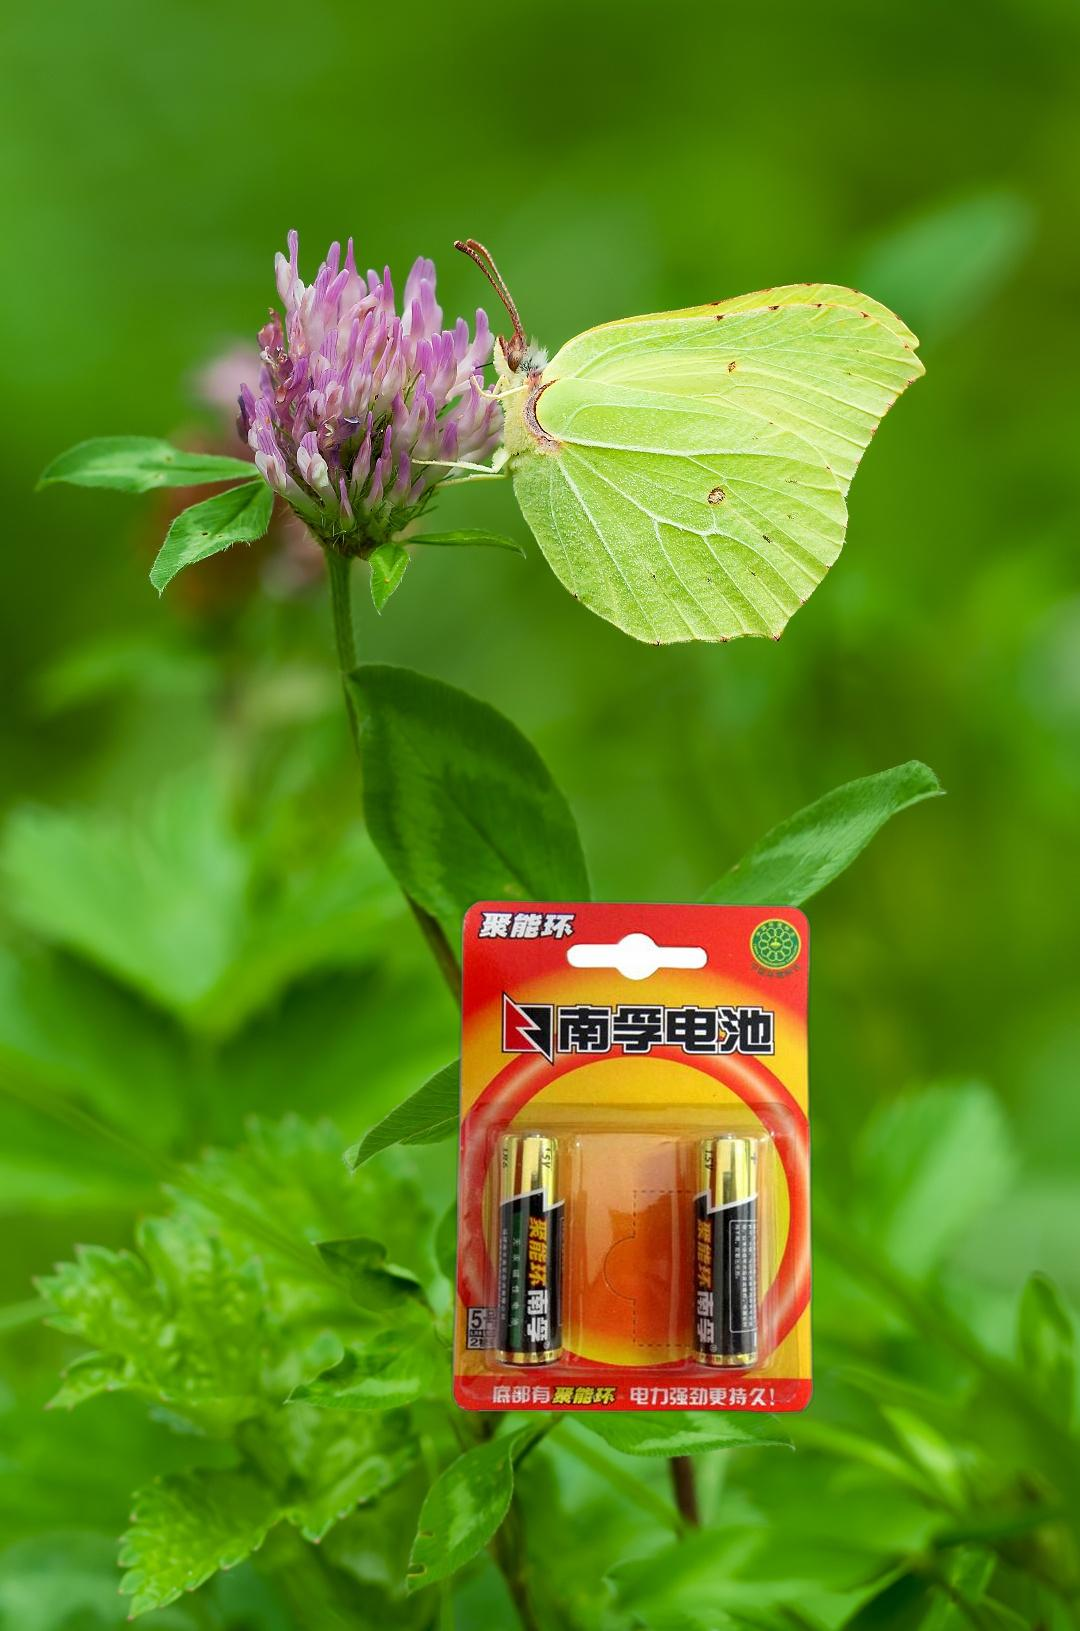battery: (445, 872, 1080, 1463)
